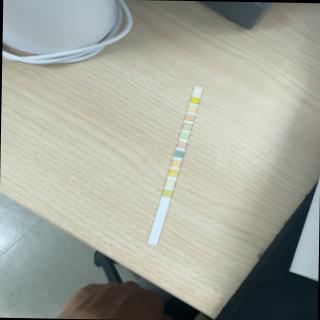mark: (174, 150, 183, 158), (192, 88, 202, 95), (168, 169, 178, 176), (162, 189, 172, 196), (172, 160, 180, 167), (166, 179, 174, 186), (180, 132, 189, 138), (188, 105, 196, 111), (186, 114, 194, 120), (183, 124, 191, 130), (178, 142, 186, 148), (191, 97, 198, 103)
